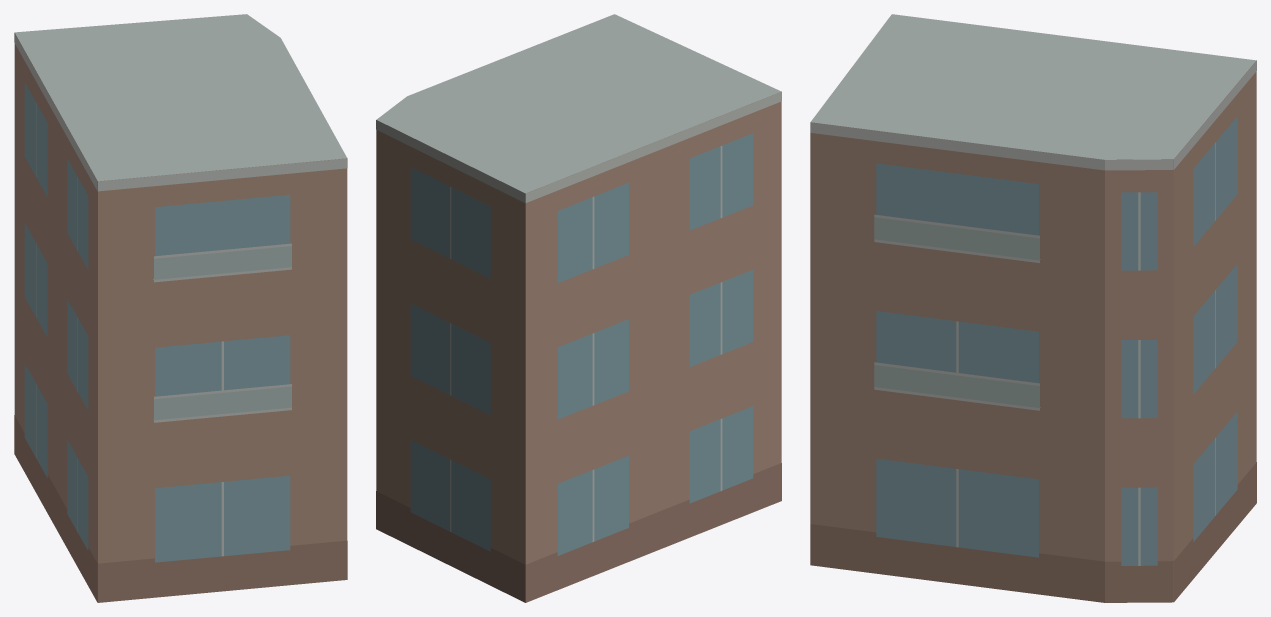
The model's file is survey-upis-32492312.glb.
The picture shows the model from 3 angles, left to right: view 1: azimuth 30°, elevation 25°; view 2: azimuth 150°, elevation 25°; view 3: azimuth 270°, elevation 25°; orthographic projection. The views are drawn at different scales.
Parts seen in each view (by area): view 1: survey-upis-32492312.tmp; view 2: survey-upis-32492312.tmp; view 3: survey-upis-32492312.tmp.
Part boxes in pixels (x1,y1,x2,y2): survey-upis-32492312.tmp: (14, 14, 347, 602); survey-upis-32492312.tmp: (376, 14, 781, 602); survey-upis-32492312.tmp: (810, 14, 1256, 602).
Size of the model in its own units: 7.21 by 10.2 by 9.32.
